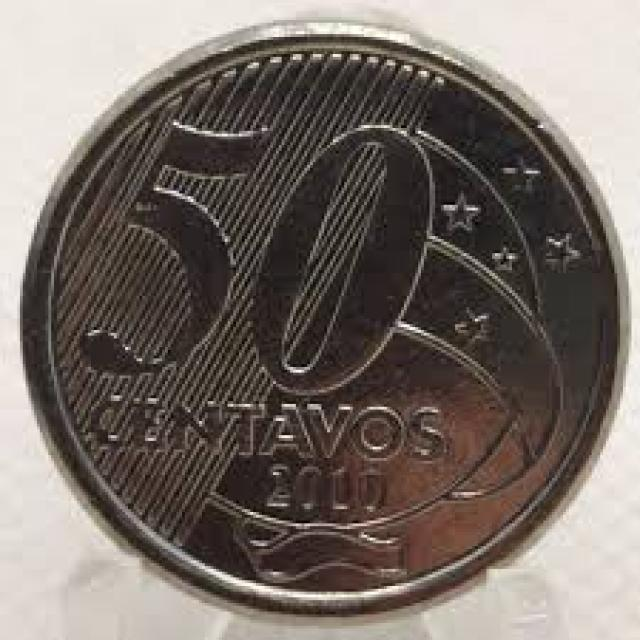50 cent: (19, 21, 632, 611)
